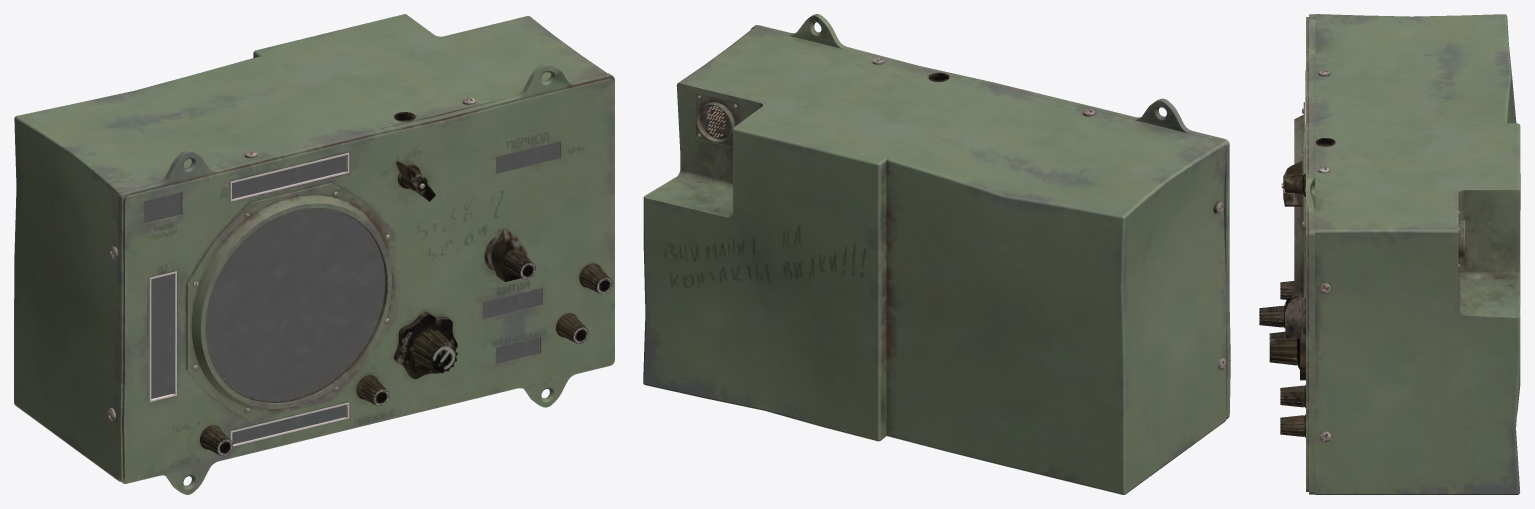
Rendered from vintage_spacecraft_instrument_1k.glb.
3 views of the same model, side by side, from view 1: azimuth 30°, elevation 25°; view 2: azimuth 150°, elevation 25°; view 3: azimuth 270°, elevation 25° (orthographic). The views are drawn at different scales.
Parts seen in each view (by area): view 1: vintage_spacecraft_instrument; view 2: vintage_spacecraft_instrument; view 3: vintage_spacecraft_instrument.
Part boxes in pixels (x1=…): vintage_spacecraft_instrument: x1=14, y1=14, x2=614, y2=494; vintage_spacecraft_instrument: x1=643, y1=14, x2=1230, y2=494; vintage_spacecraft_instrument: x1=1259, y1=14, x2=1520, y2=494.
Size of the model in its own units: 0.4103 by 0.2693 by 0.2044.
2 materials, 2 textured.
